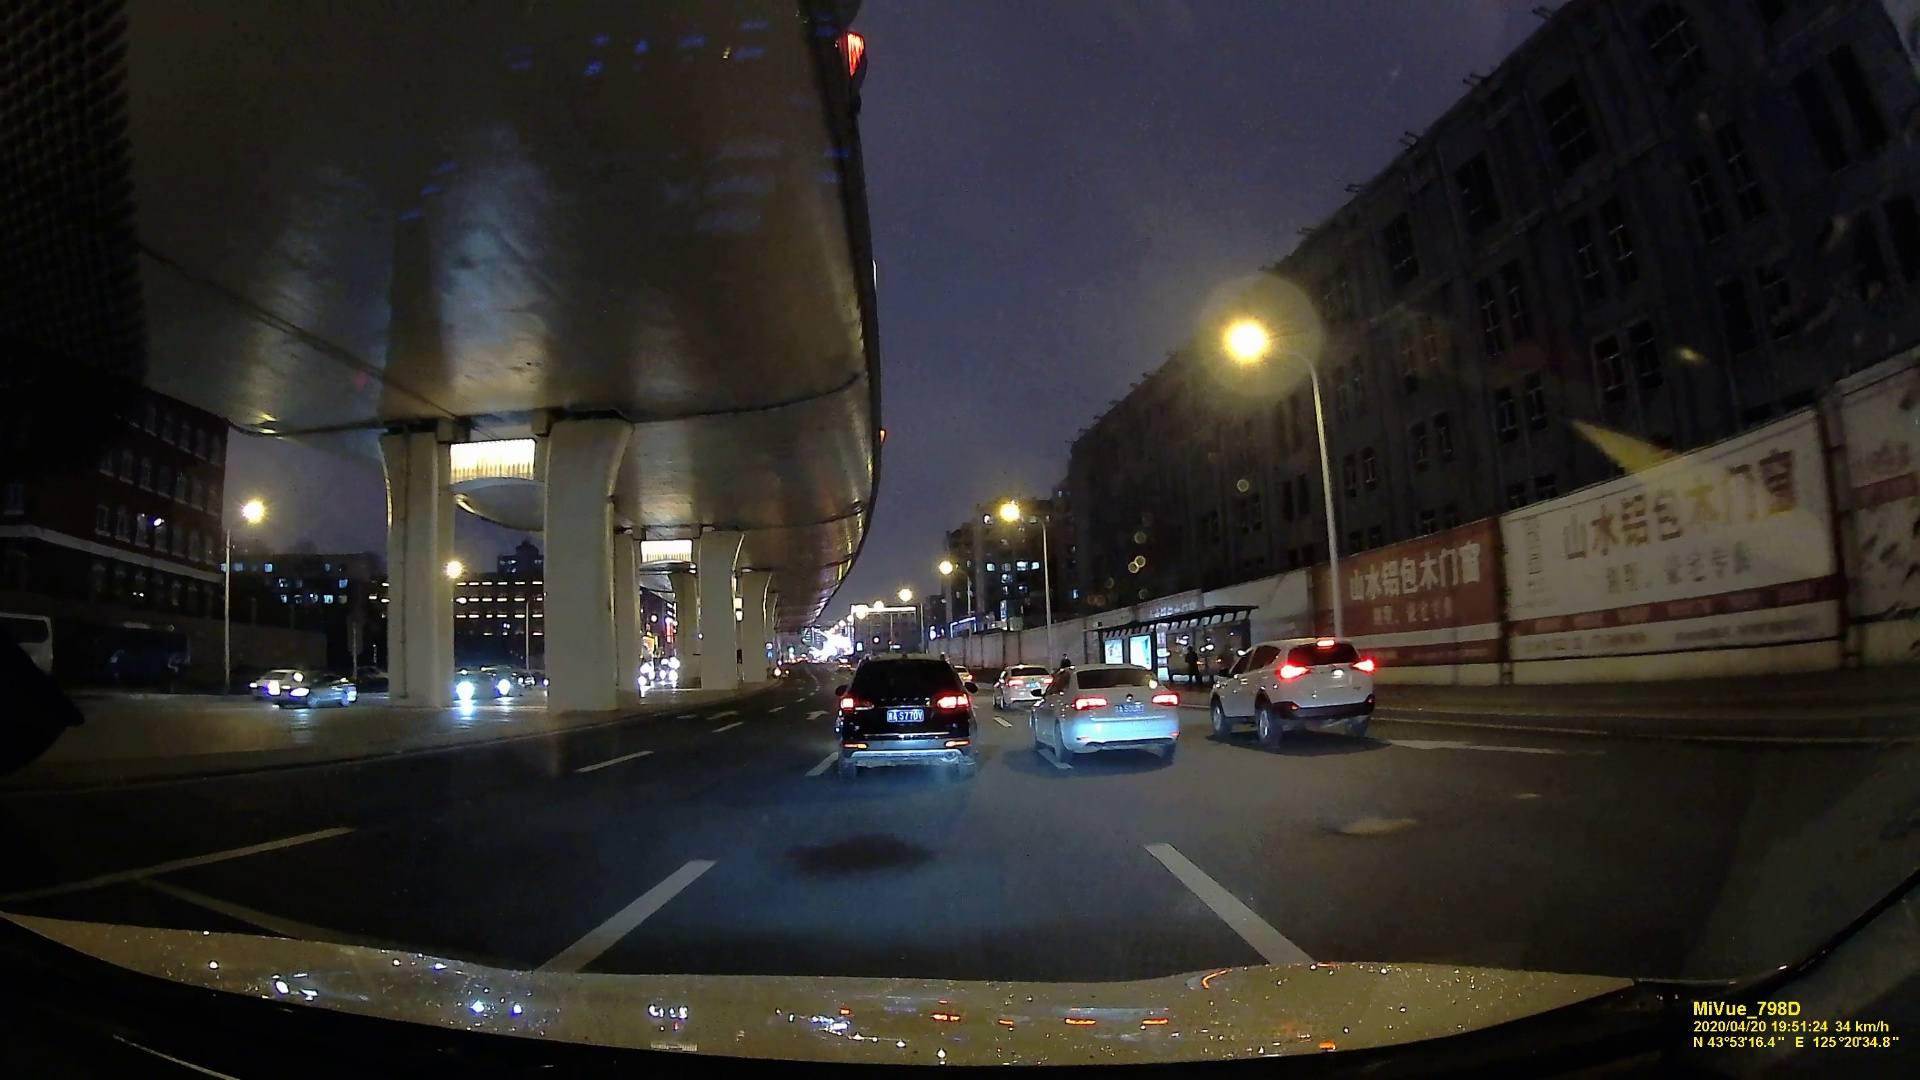vehicle: (1211, 636, 1383, 744), (831, 651, 980, 775), (1025, 661, 1182, 764), (278, 674, 355, 705), (994, 666, 1046, 708)
